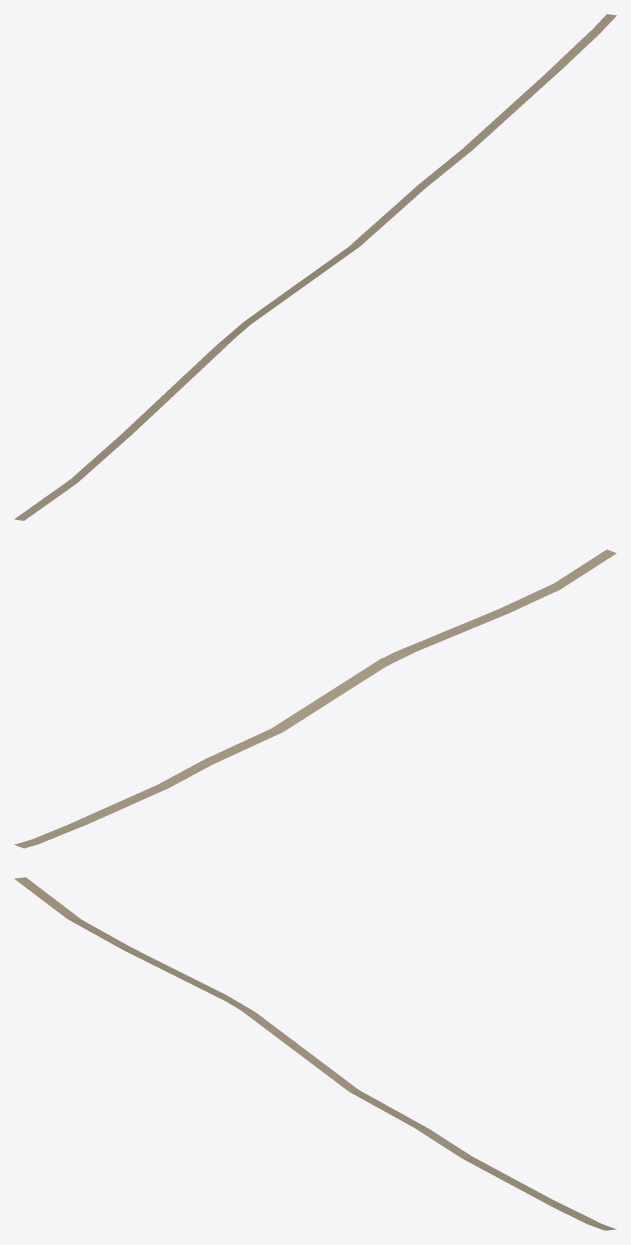
Rendered from farm_-8_5_track.glb.
3 renders of one model, top to bottom at view 1: azimuth 30°, elevation 25°; view 2: azimuth 210°, elevation 25°; view 3: azimuth 270°, elevation 25°, orthographic. The views are drawn at different scales.
Parts seen in each view (by area): view 1: geometry_0; view 2: geometry_0; view 3: geometry_0.
Boxes of the visible parts, x1,y1,x2,y2 form: geometry_0: (14,14,616,520); geometry_0: (14,549,616,848); geometry_0: (14,877,616,1230).
Bounding box in the file's own units: 274 × 32.37 × 148.
